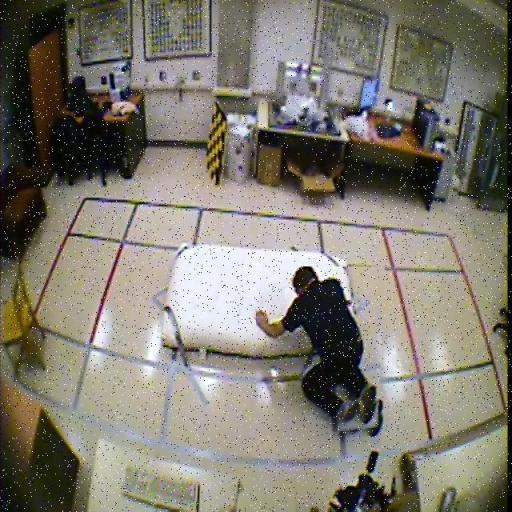Fall: (256, 267, 386, 442)
